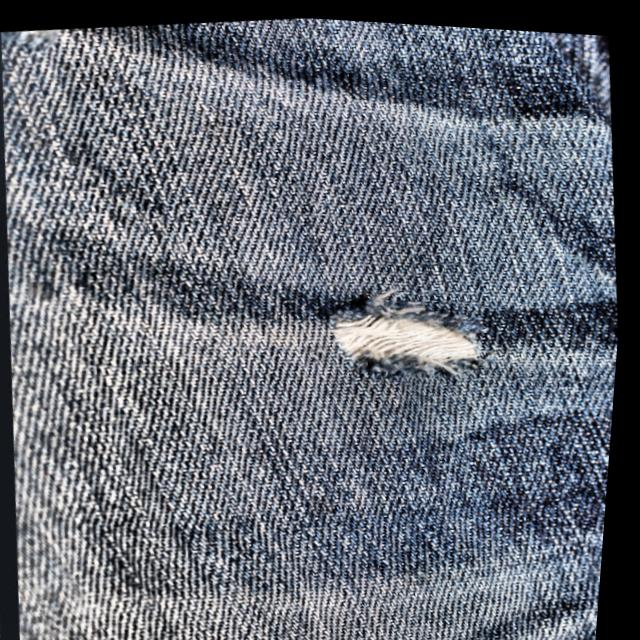Hole: (298, 261, 535, 400)
